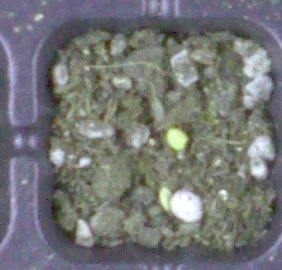chilli seed: (165, 126, 190, 150), (158, 186, 169, 215)
